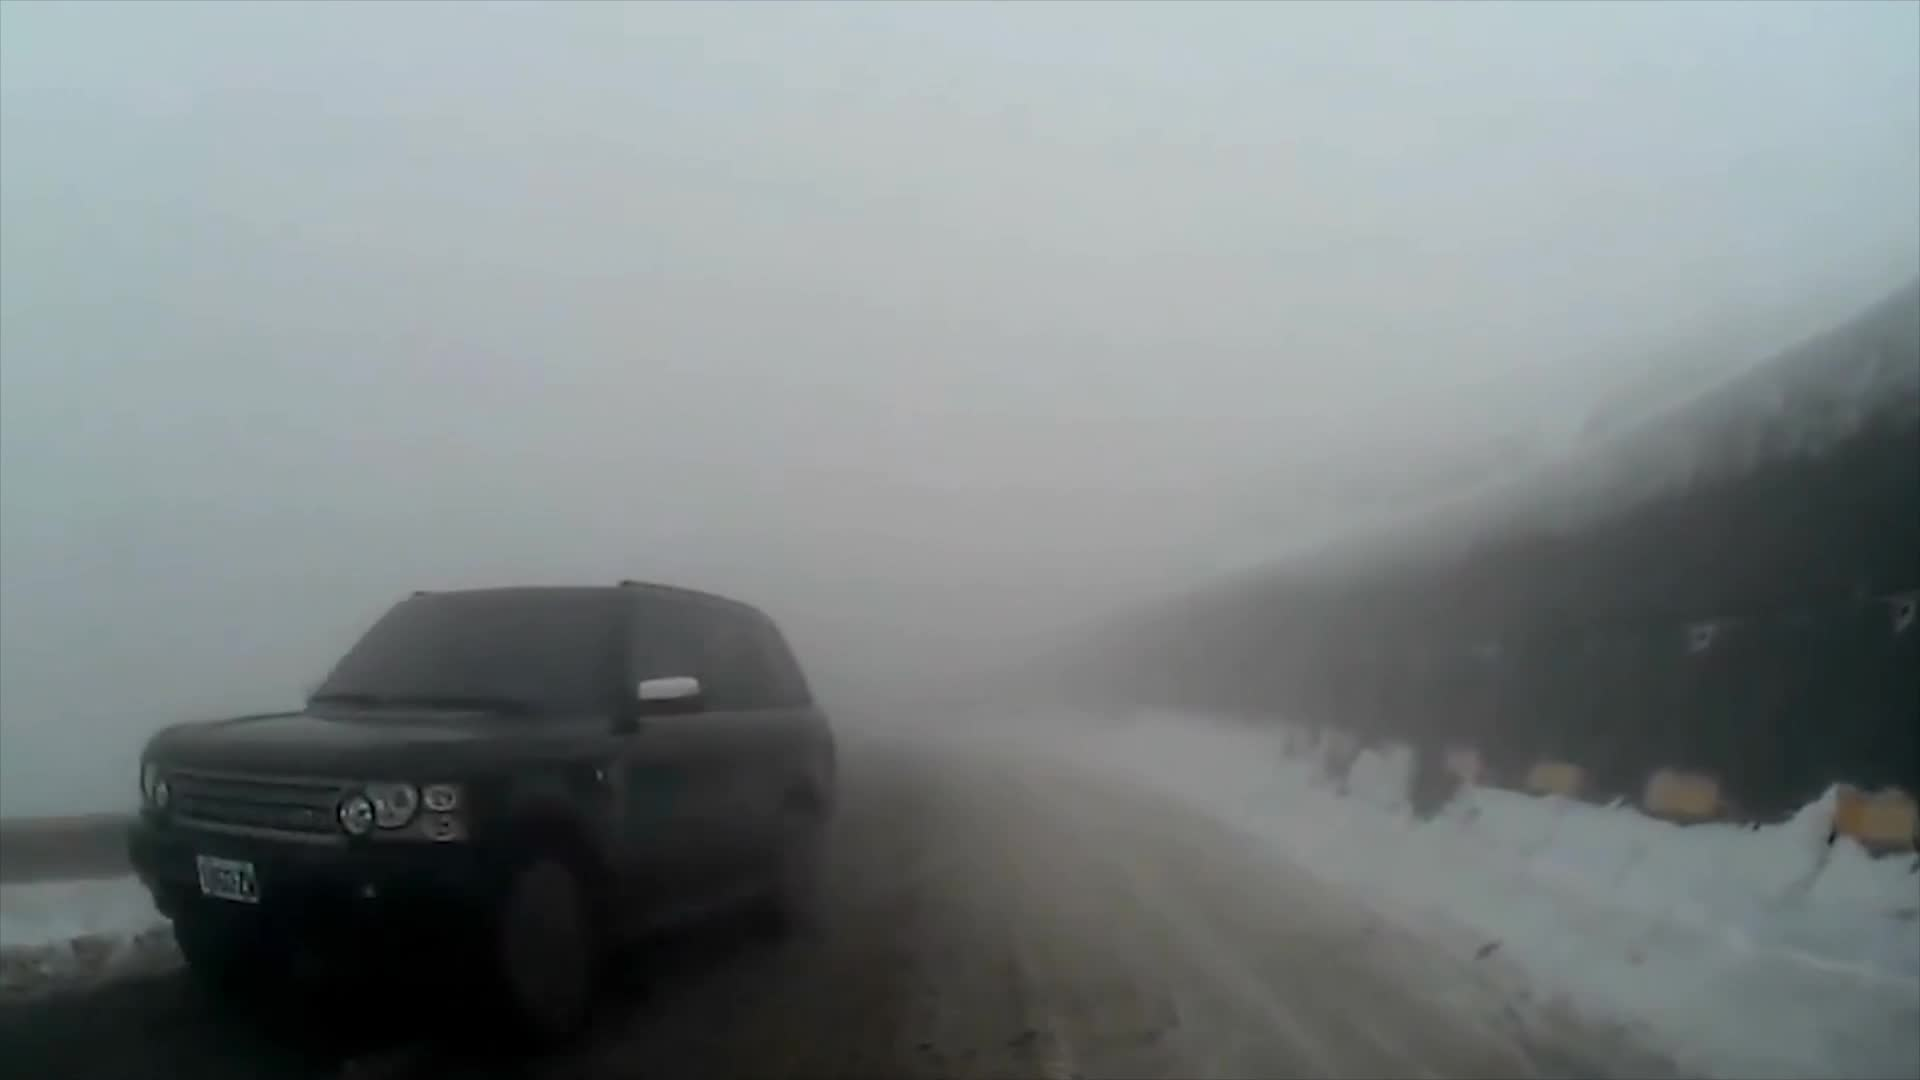vehicle: (124, 575, 839, 1062)
